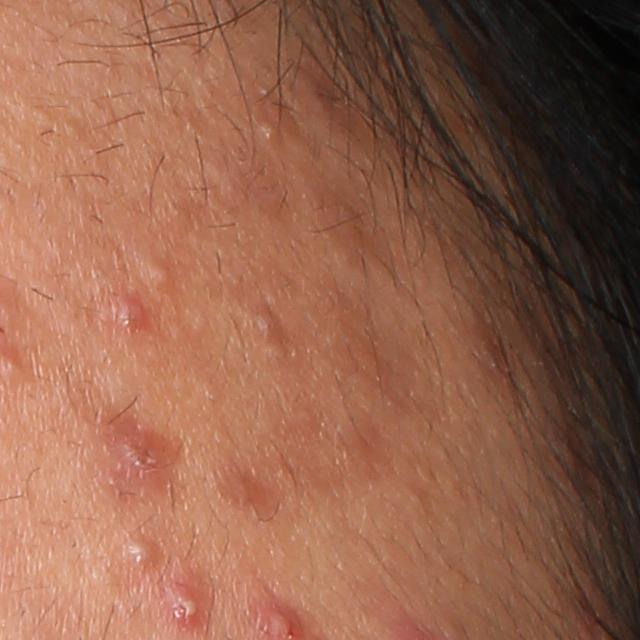comedo: (136, 249, 181, 288)
papule: (110, 424, 178, 480)
